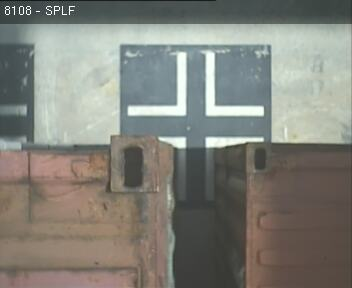groundmarker_1: (127, 51, 264, 117), (155, 136, 265, 201)
